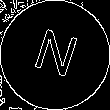N_S: (28, 25, 82, 85)
